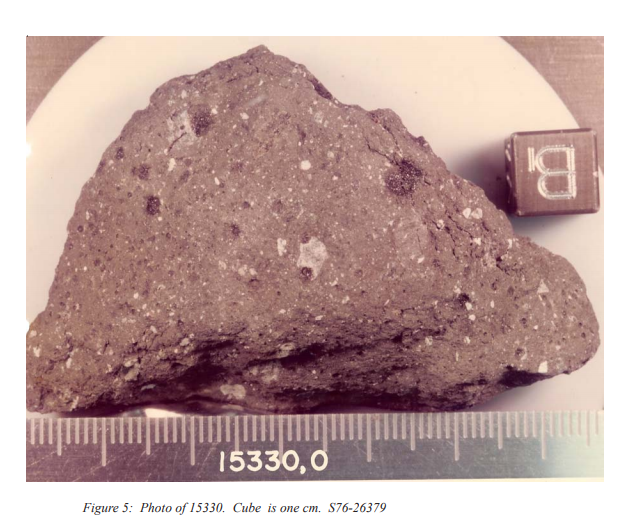Breccia: (17, 55, 598, 391), (133, 166, 417, 326)
